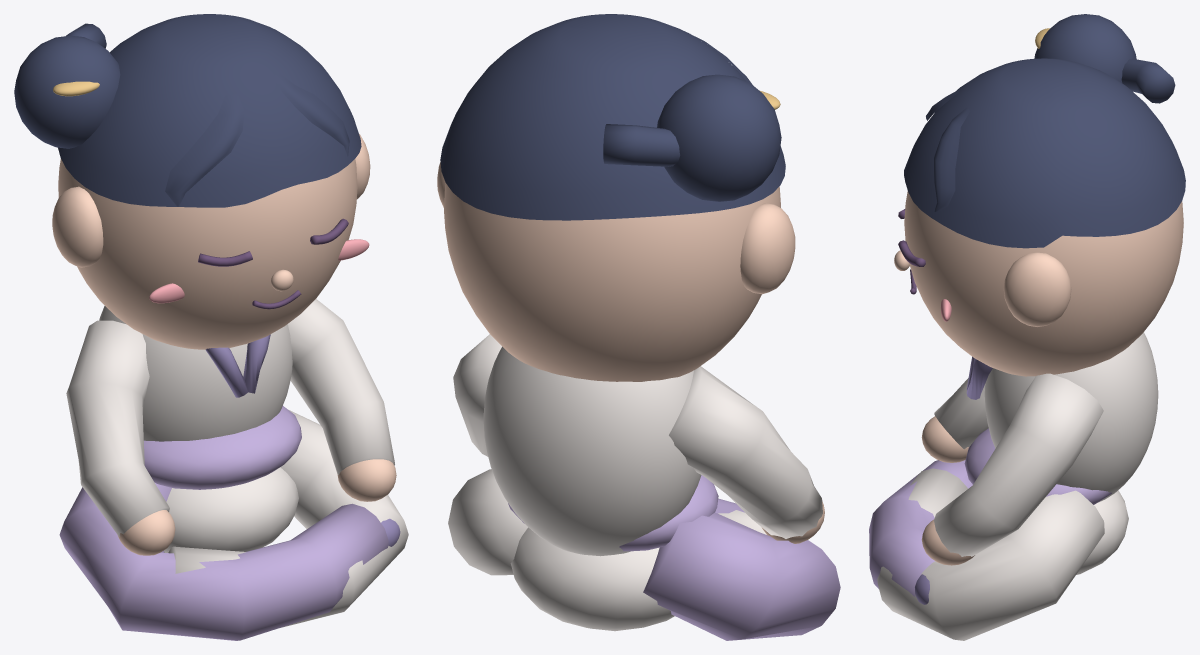
File: meditator_base.glb
3 views of the same model, side by side, from view 1: azimuth 30°, elevation 25°; view 2: azimuth 150°, elevation 25°; view 3: azimuth 270°, elevation 25° (orthographic). The views are drawn at different scales.
Parts seen in each view (by area): view 1: hair_blue_black_UpperBodyBreath_object, skin_rose_cream_UpperBodyBreath_object, robe_cream_UpperBodyBreath_object, robe_lavender_SeatRoot_object, robe_cream_SeatRoot_object, robe_lavender_UpperBodyBreath_object, robe_amethyst_UpperBodyBreath_object, eyes_mauve_UpperBodyBreath_object, skin_blush_UpperBodyBreath_object, hair_pin_gold_UpperBodyBreath_object; view 2: hair_blue_black_UpperBodyBreath_object, robe_cream_UpperBodyBreath_object, skin_rose_cream_UpperBodyBreath_object, robe_lavender_SeatRoot_object, robe_cream_SeatRoot_object, robe_lavender_UpperBodyBreath_object; view 3: hair_blue_black_UpperBodyBreath_object, skin_rose_cream_UpperBodyBreath_object, robe_cream_UpperBodyBreath_object, robe_cream_SeatRoot_object, robe_lavender_SeatRoot_object, robe_lavender_UpperBodyBreath_object, robe_amethyst_UpperBodyBreath_object, eyes_mauve_UpperBodyBreath_object.
Boxes of the visible parts, bbox=[...] form: hair_blue_black_UpperBodyBreath_object: bbox=[14, 14, 361, 207]; skin_rose_cream_UpperBodyBreath_object: bbox=[52, 134, 396, 555]; robe_cream_UpperBodyBreath_object: bbox=[66, 299, 394, 536]; robe_lavender_SeatRoot_object: bbox=[59, 483, 388, 640]; robe_cream_SeatRoot_object: bbox=[164, 410, 408, 627]; robe_lavender_UpperBodyBreath_object: bbox=[144, 406, 301, 489]; robe_amethyst_UpperBodyBreath_object: bbox=[205, 334, 270, 397]; eyes_mauve_UpperBodyBreath_object: bbox=[198, 218, 348, 309]; skin_blush_UpperBodyBreath_object: bbox=[149, 239, 369, 303]; hair_pin_gold_UpperBodyBreath_object: bbox=[53, 81, 99, 96]; hair_blue_black_UpperBodyBreath_object: bbox=[440, 14, 785, 220]; robe_cream_UpperBodyBreath_object: bbox=[453, 334, 822, 556]; skin_rose_cream_UpperBodyBreath_object: bbox=[437, 162, 824, 543]; robe_lavender_SeatRoot_object: bbox=[643, 498, 840, 640]; robe_cream_SeatRoot_object: bbox=[448, 469, 766, 631]; robe_lavender_UpperBodyBreath_object: bbox=[508, 475, 718, 551]; hair_blue_black_UpperBodyBreath_object: bbox=[904, 14, 1185, 248]; skin_rose_cream_UpperBodyBreath_object: bbox=[894, 191, 1183, 565]; robe_cream_UpperBodyBreath_object: bbox=[934, 332, 1158, 556]; robe_cream_SeatRoot_object: bbox=[877, 468, 1128, 640]; robe_lavender_SeatRoot_object: bbox=[869, 460, 972, 596]; robe_lavender_UpperBodyBreath_object: bbox=[964, 428, 1111, 504]; robe_amethyst_UpperBodyBreath_object: bbox=[966, 356, 992, 399]; eyes_mauve_UpperBodyBreath_object: bbox=[898, 209, 925, 294].
Bounding box in the file's own units: 0.698 × 1.15 × 0.6346.
